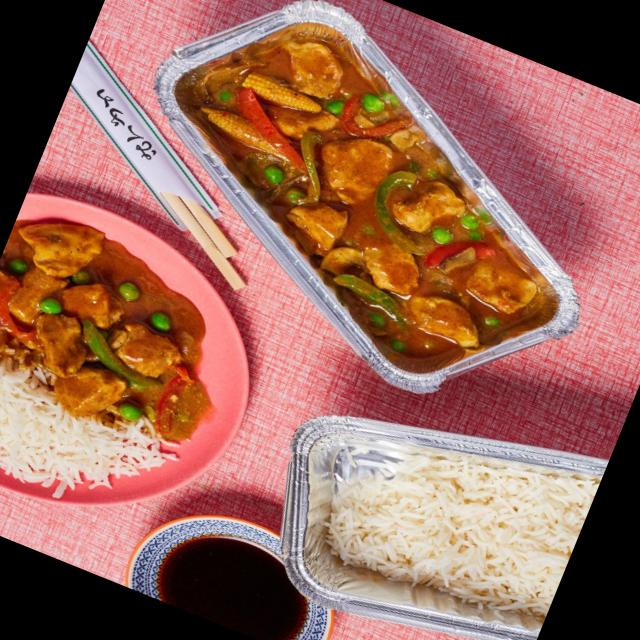chicken: (150, 2, 608, 360), (0, 231, 215, 438)
rice: (307, 385, 601, 640), (0, 358, 181, 529)
